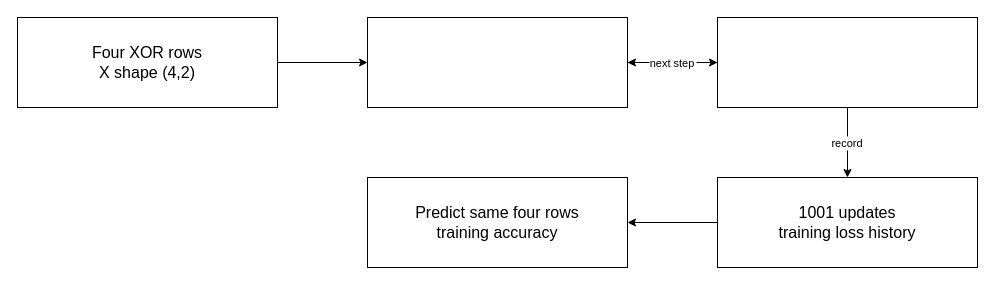
The diagram is 995 pixels wide and 285 high, and some of its shapes have lost their labels. The shapes that lost their labels are listed below. From the top down, each one's box as (x1, y1, x2, y2) in pixels, then its label:
(366, 16, 628, 108): Linear 2 to 8 Tanh, Linear 8 to 2
(716, 16, 978, 108): Cross-entropy loss backward and Adam
